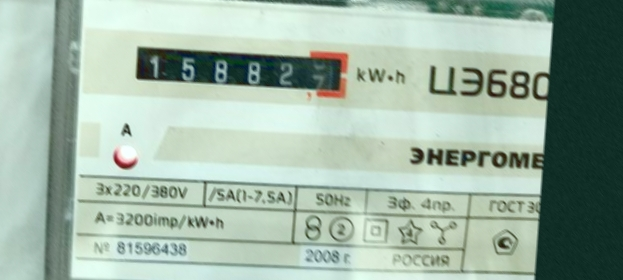1: (144, 49, 160, 78)
2: (275, 57, 293, 86)
5: (176, 52, 196, 80)
7: (307, 69, 324, 87)
8: (209, 54, 227, 83), (243, 56, 260, 85)
screen: (118, 27, 357, 105)
